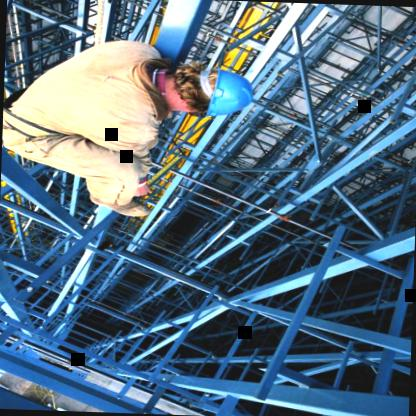helmet: (160, 66, 262, 121)
